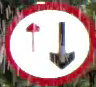Two way: (3, 1, 95, 81)
